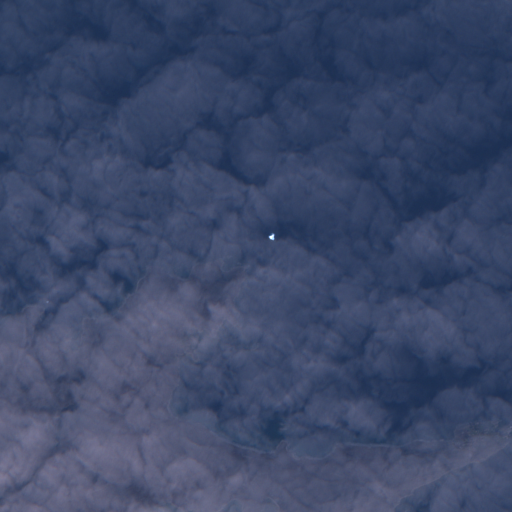Iceberg: (268, 233, 274, 240)
